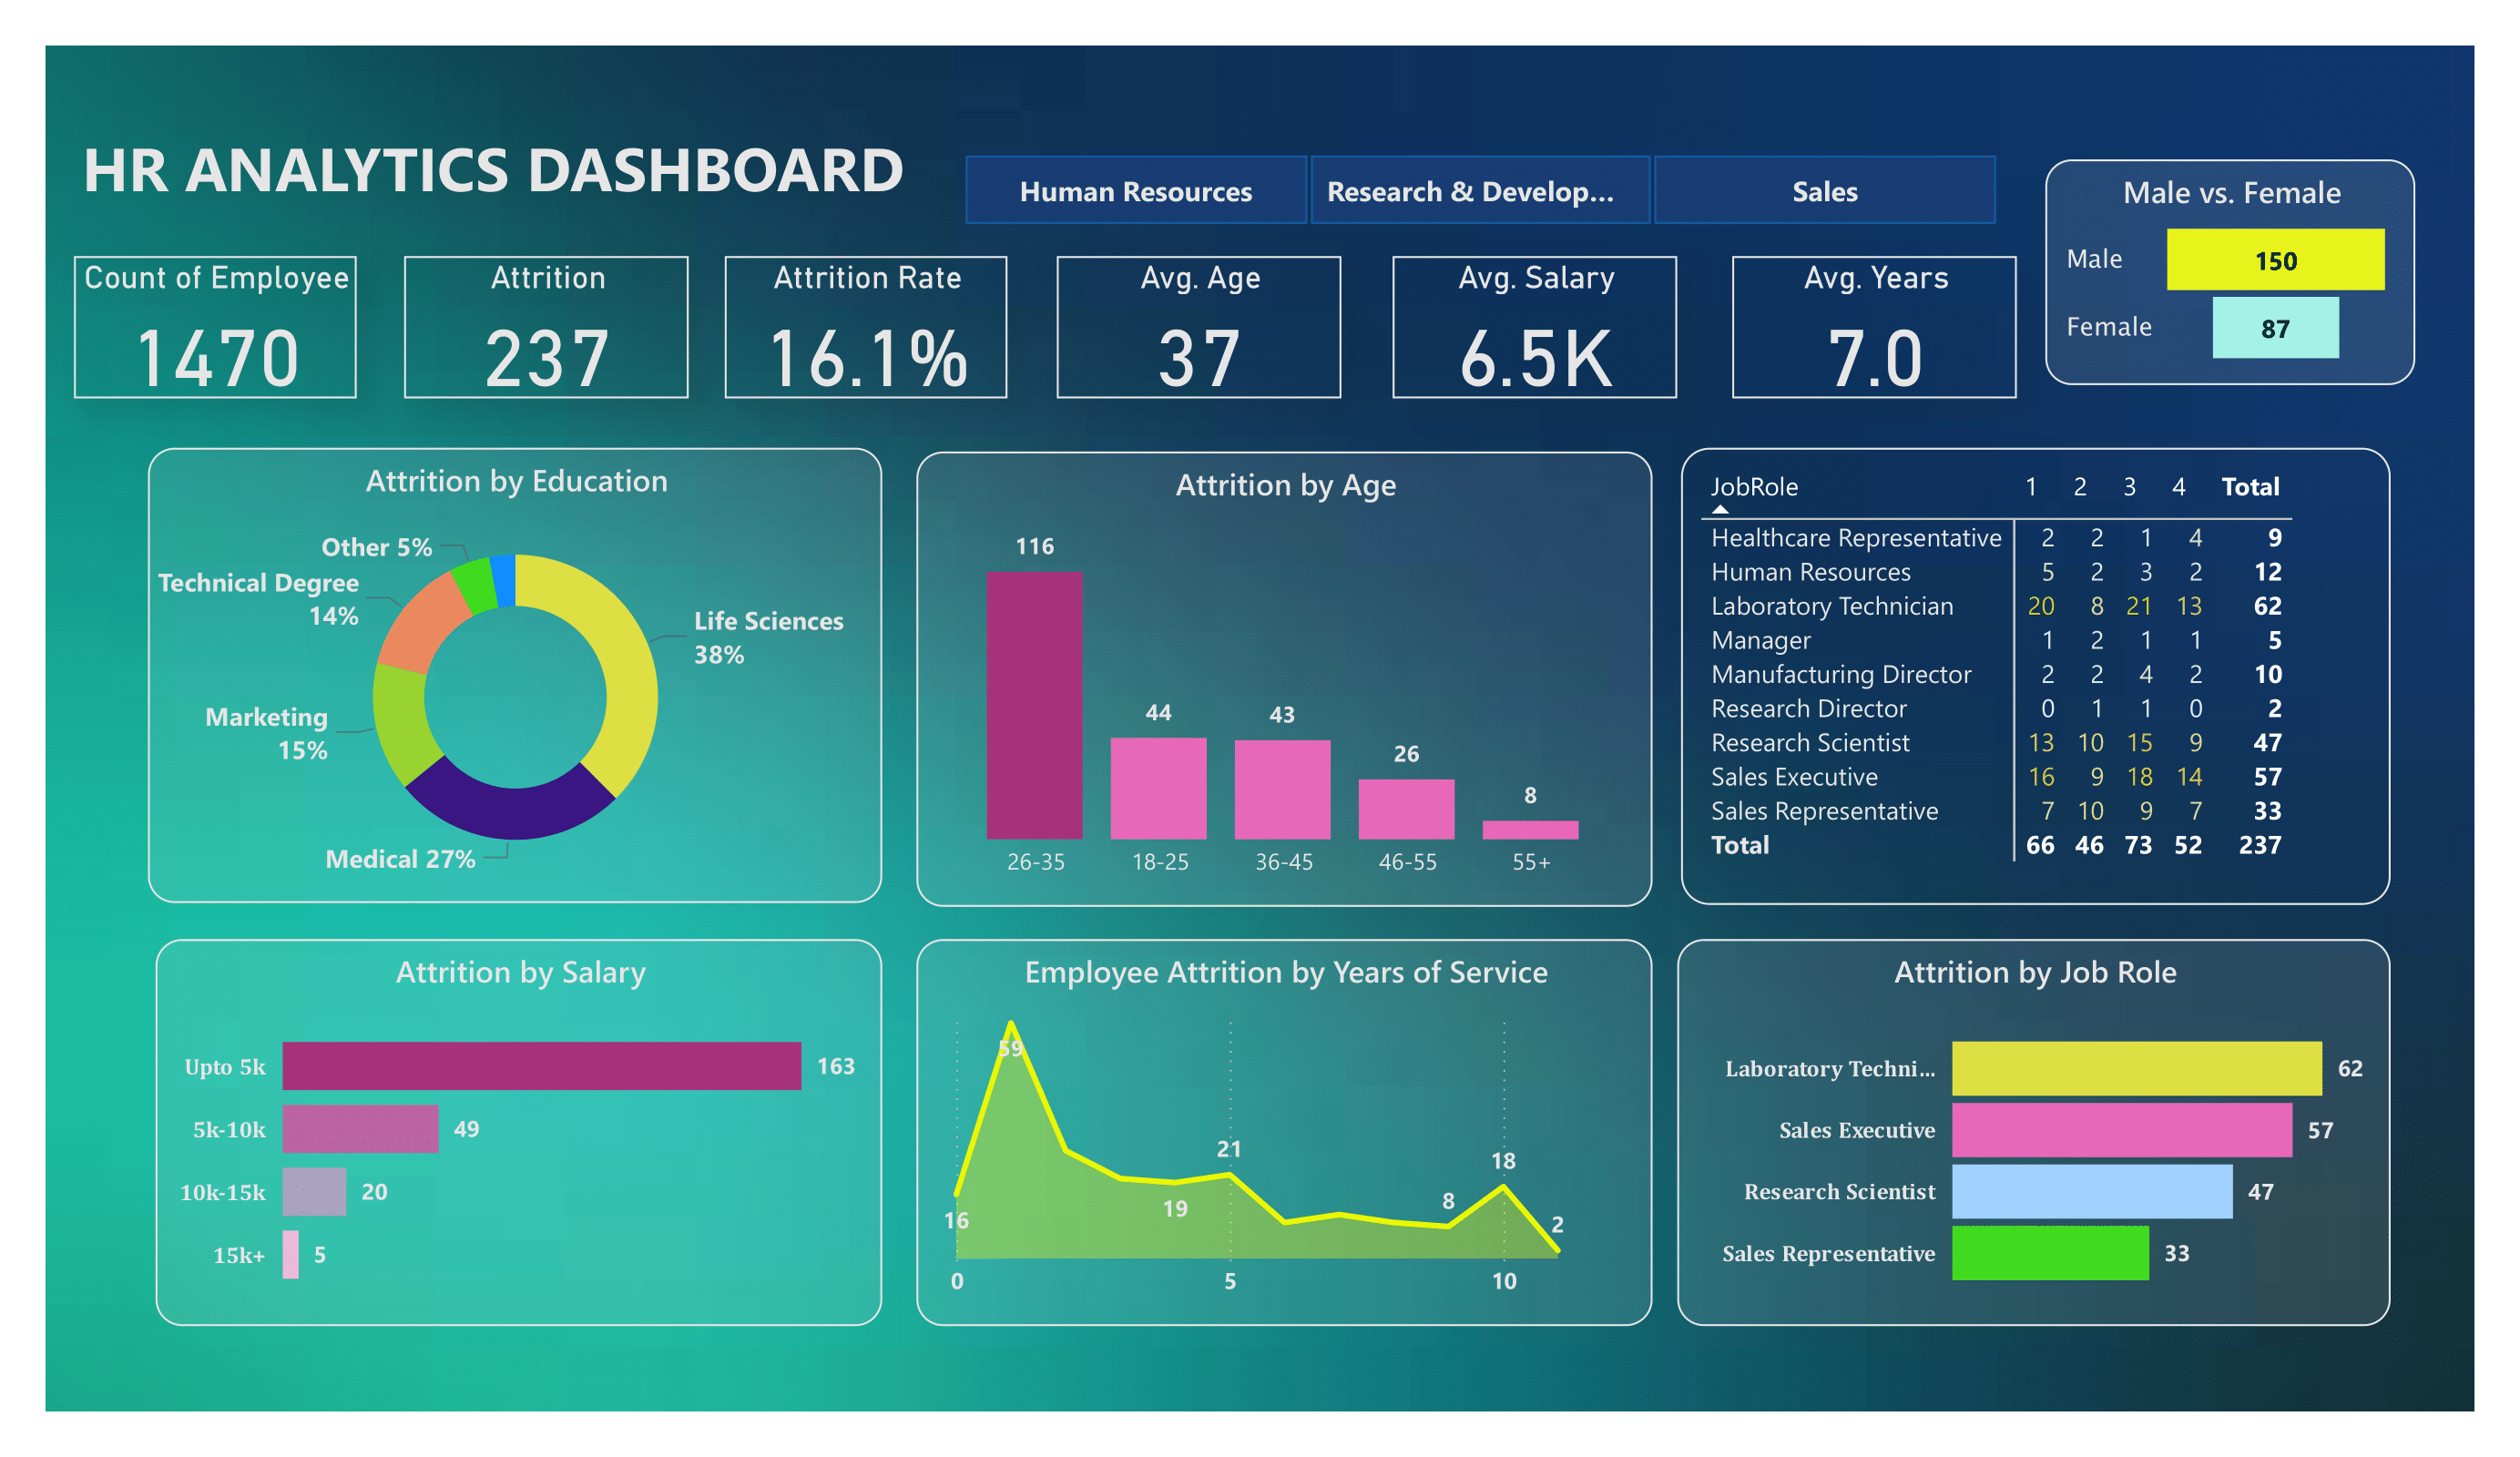

The dashboard page shown, as its layout file describes it:
{"tool":"powerbi","page":{"name":"Page 1","canvas":[1280,720],"ordinal":0},"visuals":[{"type":"card","title":"Count of Employee","fields":{"Values":["CountNonNull(HR_Analytics.EmpID)"]},"box":[14.7,110.8,149.6,75.5],"z":0},{"type":"card","title":"Attrition","fields":{"Values":["Sum(HR_Analytics.Attrition Count)"]},"box":[189,110.8,149.6,75.5],"z":1000},{"type":"card","title":"Attrition Rate","fields":{"Values":["HR_Analytics.AttritionRate"]},"box":[357.7,110.8,149.6,75.5],"z":2000},{"type":"card","title":"Avg. Age","fields":{"Values":["Avg(HR_Analytics.Age)"]},"box":[533.4,110.8,149.6,75.5],"z":3000},{"type":"card","title":"Avg. Salary","fields":{"Values":["Avg(HR_Analytics.MonthlyIncome)"]},"box":[710.3,111.1,150.1,75.1],"z":4000},{"type":"card","title":"Avg. Years","fields":{"Values":["Avg(HR_Analytics.YearsAtCompany)"]},"box":[889.3,111.1,150.1,75.1],"z":5000},{"type":"donutChart","title":"Attrition by Education","fields":{"Category":["HR_Analytics.EducationField"],"Y":["Sum(HR_Analytics.Attrition Count)"]},"box":[54.1,211.6,387.4,240.7],"z":6000},{"type":"columnChart","title":"Attrition by Age","fields":{"Category":["HR_Analytics.AgeGroup"],"Y":["Sum(HR_Analytics.Attrition Count)"]},"box":[458.6,213.6,388.8,240.7],"z":7000},{"type":"pivotTable","fields":{"Rows":["HR_Analytics.JobRole"],"Columns":["HR_Analytics.JobSatisfaction"],"Values":["Sum(HR_Analytics.Attrition Count)"]},"box":[861.6,212.2,374.5,240.7],"z":8000},{"type":"barChart","title":"Attrition by Salary","fields":{"Category":["HR_Analytics.SalarySlab"],"Y":["Sum(HR_Analytics.Attrition Count)"]},"box":[58.4,471.4,383.1,203.7],"z":9000},{"type":"barChart","title":"Attrition by Job Role","fields":{"Y":["Sum(HR_Analytics.Attrition Count)"],"Category":["HR_Analytics.JobRole"]},"box":[860.2,471.4,376,203.7],"z":10000},{"type":"areaChart","title":"Employee Attrition by Years of Service","fields":{"Category":["HR_Analytics.YearsAtCompany"],"Y":["Sum(HR_Analytics.Attrition Count)"]},"box":[458.6,471.4,388.8,203.7],"z":11000},{"type":"funnel","title":" Male vs. Female","fields":{"Category":["HR_Analytics.Gender"],"Y":["Sum(HR_Analytics.Attrition Count)"]},"box":[1054,60,195,119],"z":12000},{"type":"slicer","fields":{"Values":["HR_Analytics.Department"]},"box":[458.6,37,593.9,64.1],"z":13000},{"type":"textbox","box":[14.2,37,471.4,64.1],"z":14000}]}

Visuals, with their boxes in screenshot pixels (x1, y1, x2, y2):
"Count of Employee" card: x1=74 y1=256 x2=357 y2=399
"Attrition" card: x1=404 y1=256 x2=689 y2=399
"Attrition Rate" card: x1=724 y1=256 x2=1008 y2=399
"Avg. Age" card: x1=1057 y1=256 x2=1342 y2=399
"Avg. Salary" card: x1=1393 y1=256 x2=1678 y2=399
"Avg. Years" card: x1=1733 y1=256 x2=2018 y2=399
"Attrition by Education" donutChart: x1=148 y1=447 x2=883 y2=903
"Attrition by Age" columnChart: x1=916 y1=451 x2=1654 y2=907
pivotTable - HR_Analytics.JobRole x HR_Analytics.JobSatisfaction: x1=1680 y1=448 x2=2392 y2=905
"Attrition by Salary" barChart: x1=157 y1=940 x2=883 y2=1326
"Attrition by Job Role" barChart: x1=1678 y1=940 x2=2392 y2=1326
"Employee Attrition by Years of Service" areaChart: x1=916 y1=940 x2=1654 y2=1326
" Male vs. Female" funnel: x1=2046 y1=159 x2=2415 y2=385
slicer - HR_Analytics.Department: x1=916 y1=116 x2=2043 y2=238
textbox: x1=73 y1=116 x2=967 y2=238
